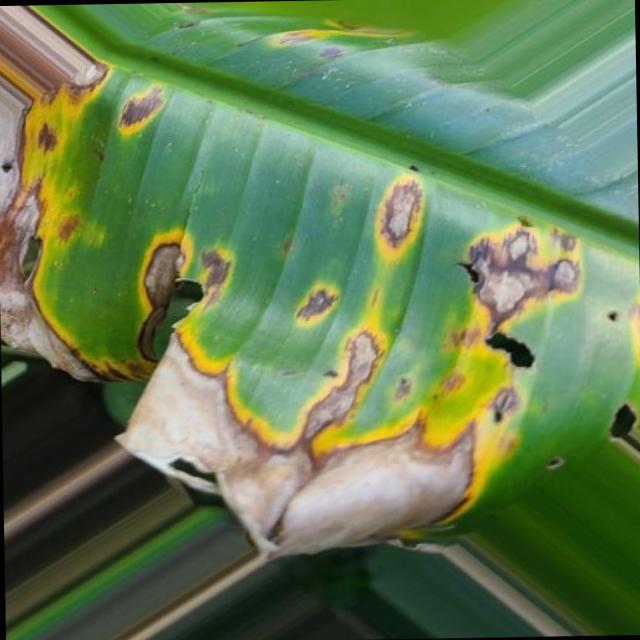Banana_Black_Sigatoka: (276, 163, 593, 585), (0, 61, 225, 422)
